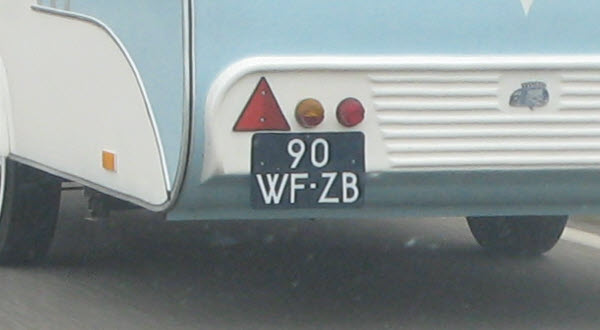license_plate: (250, 131, 367, 209)
